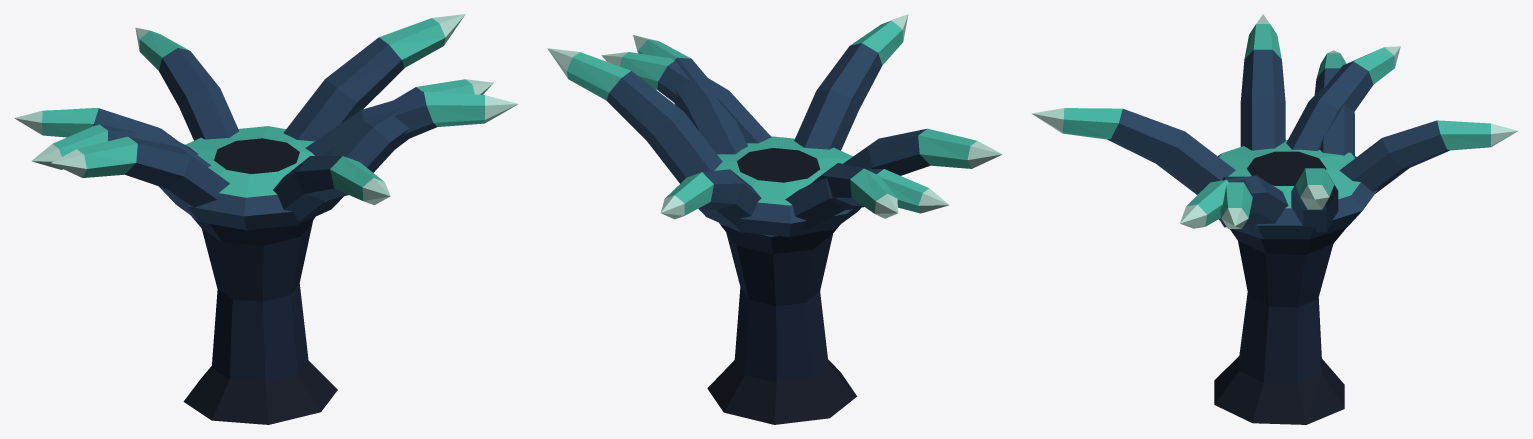
File: abyss_anemone.gltf
3 renders of one model, left to right at view 1: azimuth 30°, elevation 25°; view 2: azimuth 150°, elevation 25°; view 3: azimuth 270°, elevation 25°, orthographic. The views are drawn at different scales.
Visible parts, largest first — view 1: abyss_anemone; view 2: abyss_anemone; view 3: abyss_anemone.
Boxes of the visible parts, x1,y1,x2,y2 form: abyss_anemone: (14,14,518,424); abyss_anemone: (547,14,1002,424); abyss_anemone: (1031,14,1517,424).
Size of the model in its own units: 0.7044 by 0.4813 by 0.7043.
